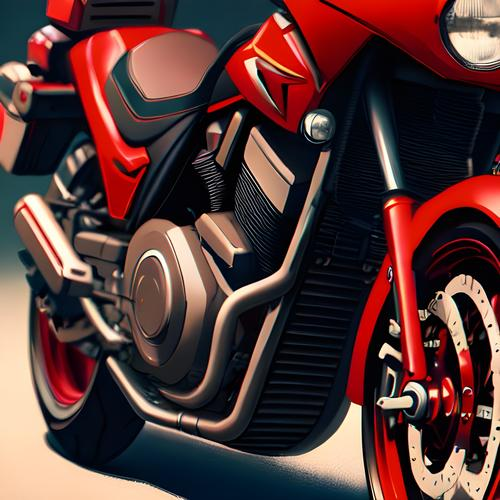摩托车: (1, 1, 499, 498)
